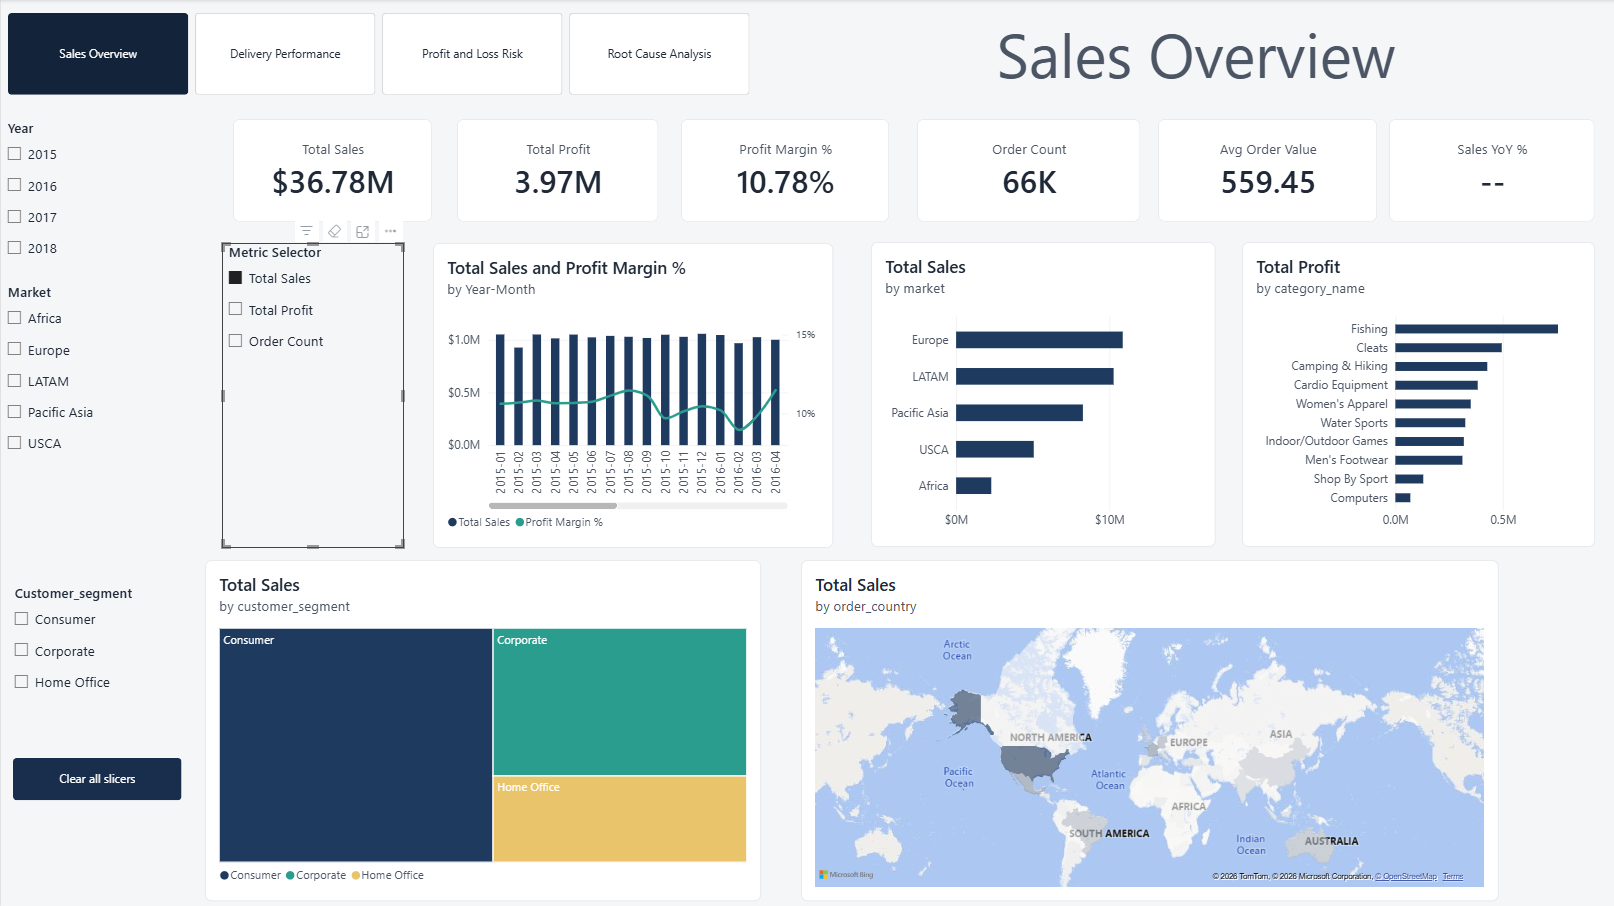

The dashboard page shown, as its layout file describes it:
{"tool":"powerbi","page":{"name":"Sales Overview","canvas":[1920,1080],"ordinal":0},"visuals":[{"type":"cardVisual","fields":{"Data":["_Measures.Total Sales"]},"box":[275.6,142.3,236.8,122.9],"z":0},{"type":"cardVisual","fields":{"Data":["_Measures.Total Profit"]},"box":[540.8,142.3,239.4,122.9],"z":1000},{"type":"cardVisual","fields":{"Data":["_Measures.Profit Margin %"]},"box":[807.3,142.3,247.1,122.9],"z":2000},{"type":"cardVisual","fields":{"Data":["_Measures.Order Count"]},"box":[1086.8,142.3,265.2,122.9],"z":3000},{"type":"cardVisual","fields":{"Data":["_Measures.Avg Order Value"]},"box":[1372.7,142.3,260.1,122.9],"z":4000},{"type":"cardVisual","fields":{"Data":["_Measures.Sales YoY %"]},"box":[1647,142.3,244.5,122.9],"z":5000},{"type":"lineClusteredColumnComboChart","fields":{"Category":["Date.Year-Month"],"Y":["_Measures.Total Sales"],"Y2":["_Measures.Profit Margin %"]},"box":[512.3,289.8,474.8,362.3],"z":6000},{"type":"clusteredBarChart","fields":{"Category":["dataco_orders.market"],"Y":["_Measures.Total Sales"]},"box":[1032.5,288.5,408.8,362.3],"z":7000},{"type":"clusteredBarChart","fields":{"Category":["dataco_orders.category_name"],"Y":["_Measures.Total Profit"]},"box":[1472.3,288.5,419.2,362.3],"z":8000},{"type":"treemap","fields":{"Group":["dataco_orders.customer_segment"],"Values":["_Measures.Total Sales"]},"box":[241.9,666.3,659.8,405],"z":9000},{"type":"filledMap","fields":{"Category":["dataco_orders.order_country"]},"box":[949.6,666.3,828,405],"z":10000},{"type":"slicer","fields":{"Values":["Date.Year"]},"box":[0,142.9,229.9,172.4],"z":11000},{"type":"slicer","fields":{"Values":["dataco_orders.market"]},"box":[0,337.4,229.9,313.9],"z":12000},{"type":"slicer","fields":{"Values":["dataco_orders.customer_segment"]},"box":[8.8,694,230.3,192.8],"z":13000},{"type":"pageNavigator","box":[8.8,16.2,882.6,97.3],"z":14000},{"type":"slicer","fields":{"Values":["Metric Selector.Metric Selector"]},"box":[262.6,289.8,216.1,362.3],"z":14001},{"type":"actionButton","box":[14.7,900.3,200,50],"z":14002},{"type":"textbox","box":[1009.2,15.5,819,116.4],"z":14003}]}

Visuals, with their boxes in screenshot pixels (x1, y1, x2, y2), scaled from the page's 1920x1080 canvas onto the 1614x906 screenshot:
cardVisual - _Measures.Total Sales: l=232, t=119, r=431, b=222
cardVisual - _Measures.Total Profit: l=455, t=119, r=656, b=222
cardVisual - _Measures.Profit Margin %: l=679, t=119, r=886, b=222
cardVisual - _Measures.Order Count: l=914, t=119, r=1137, b=222
cardVisual - _Measures.Avg Order Value: l=1154, t=119, r=1373, b=222
cardVisual - _Measures.Sales YoY %: l=1385, t=119, r=1590, b=222
lineClusteredColumnComboChart - Date.Year-Month x _Measures.Total Sales: l=431, t=243, r=830, b=547
clusteredBarChart - dataco_orders.market x _Measures.Total Sales: l=868, t=242, r=1212, b=546
clusteredBarChart - dataco_orders.category_name x _Measures.Total Profit: l=1238, t=242, r=1590, b=546
treemap - dataco_orders.customer_segment x _Measures.Total Sales: l=203, t=559, r=758, b=899
filledMap - dataco_orders.order_country: l=798, t=559, r=1494, b=899
slicer - Date.Year: l=0, t=120, r=193, b=265
slicer - dataco_orders.market: l=0, t=283, r=193, b=546
slicer - dataco_orders.customer_segment: l=7, t=582, r=201, b=744
pageNavigator: l=7, t=14, r=749, b=95
slicer - Metric Selector.Metric Selector: l=221, t=243, r=402, b=547
actionButton: l=12, t=755, r=180, b=797
textbox: l=848, t=13, r=1537, b=111
